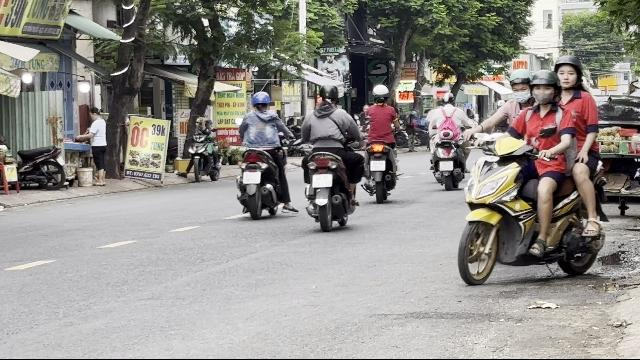helmet: (528, 70, 560, 106), (552, 55, 584, 90), (508, 68, 532, 98), (317, 84, 338, 106), (250, 91, 272, 111), (371, 84, 391, 104)
licenseplate: (312, 174, 332, 186), (242, 172, 260, 184), (370, 161, 386, 171)
motorcyclist: (453, 54, 614, 288), (297, 82, 363, 229), (233, 89, 293, 218), (358, 84, 402, 202)
